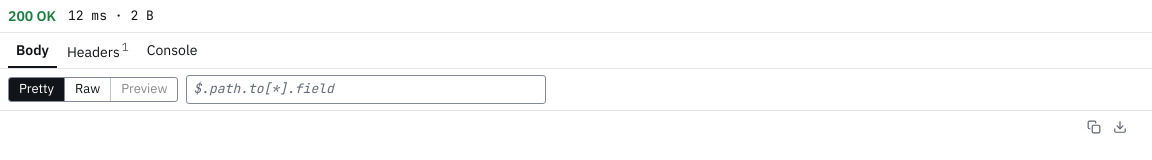
Test case: response header (A9, quick wins) › copies the body
Click the button named "Copy body".
click(1094, 127)  # box [1082, 115, 1106, 139]
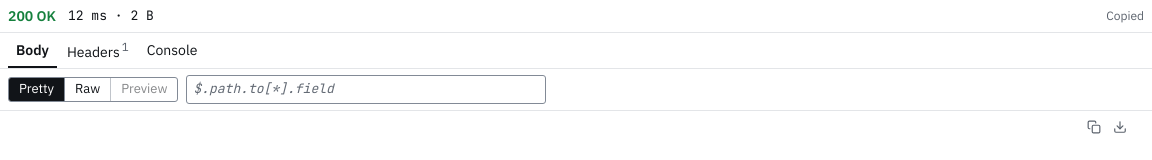
expect the text "Copied" is shown: met, box [1106, 7, 1144, 25]
